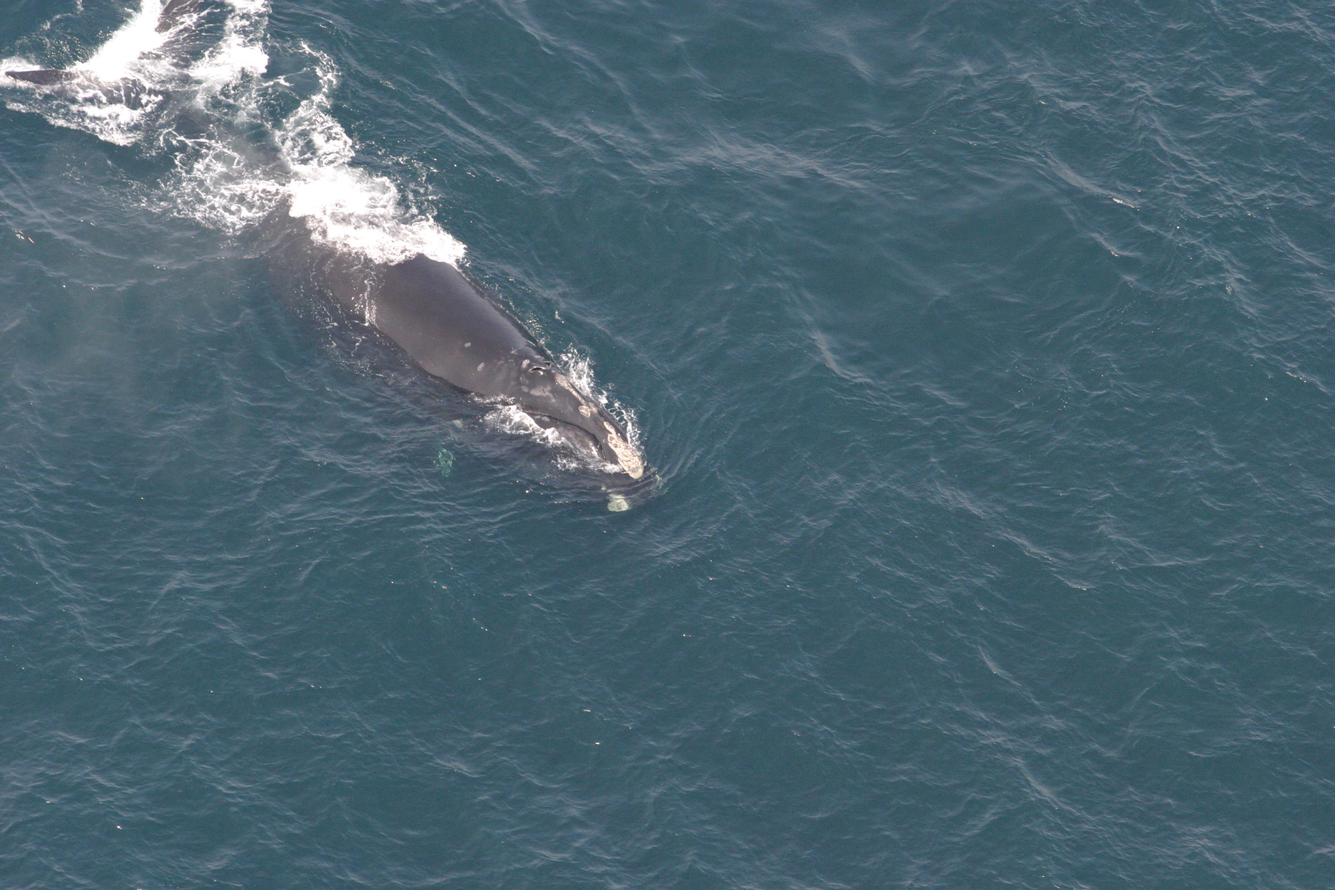whale: (1, 0, 673, 523)
